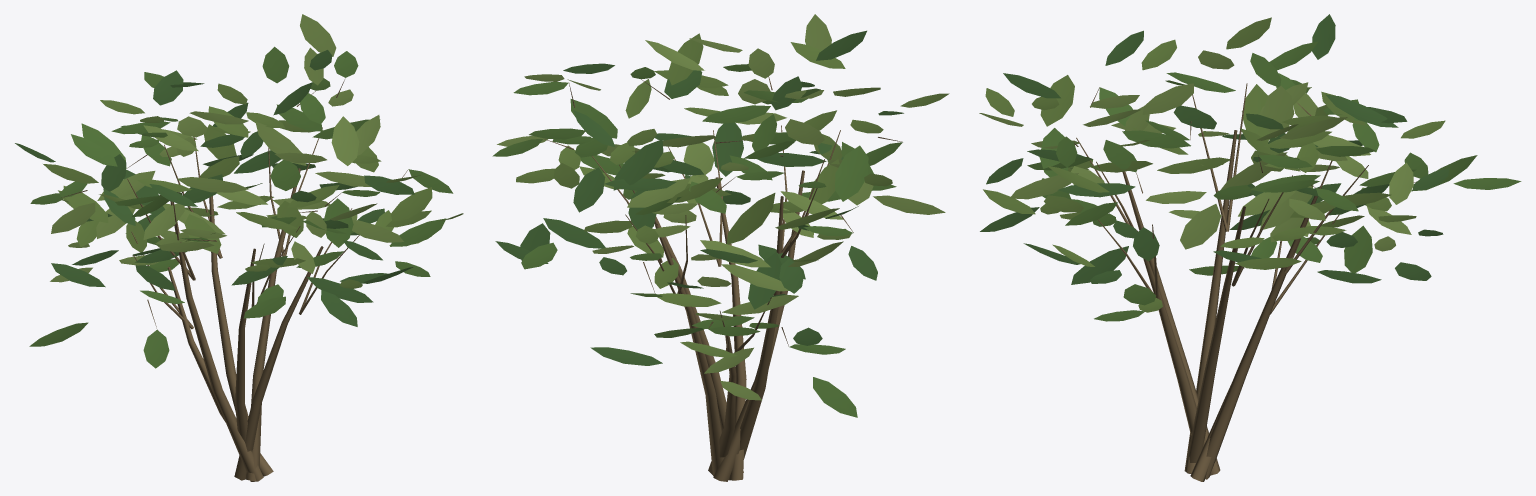
Rendered from Lentisque_2_Low.fbx.
3 renders of one model, left to right at view 1: azimuth 30°, elevation 25°; view 2: azimuth 150°, elevation 25°; view 3: azimuth 270°, elevation 25°, orthographic. The views are drawn at different scales.
Visible parts, largest first — view 1: Lentisque_2_Low; view 2: Lentisque_2_Low; view 3: Lentisque_2_Low.
Boxes of the visible parts, box(x1,y1,x2,y2) form: Lentisque_2_Low: box(15, 14, 463, 481); Lentisque_2_Low: box(492, 14, 949, 481); Lentisque_2_Low: box(979, 14, 1521, 481).
Bounding box in the file's own units: 205 × 206 × 241.
